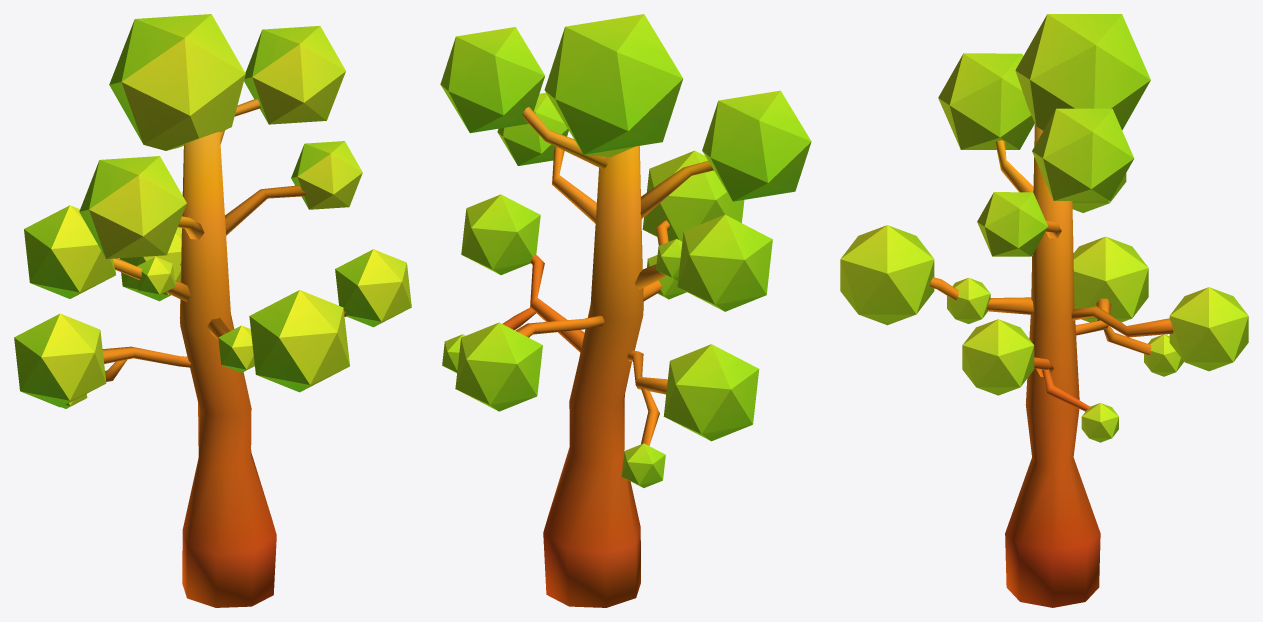
Rendered from Tree_15.fbx.
The picture shows the model from 3 angles, left to right: view 1: azimuth 30°, elevation 25°; view 2: azimuth 150°, elevation 25°; view 3: azimuth 270°, elevation 25°; orthographic projection. The views are drawn at different scales.
Parts seen in each view (by area): view 1: Tree_15; view 2: Tree_15; view 3: Tree_15.
Boxes of the visible parts, box(x1,y1,x2,y2) form: Tree_15: box(14, 14, 411, 607); Tree_15: box(440, 14, 811, 607); Tree_15: box(840, 14, 1248, 607).
Size of the model in its own units: 622 by 1007 by 675.
1 material, 1 textured.
